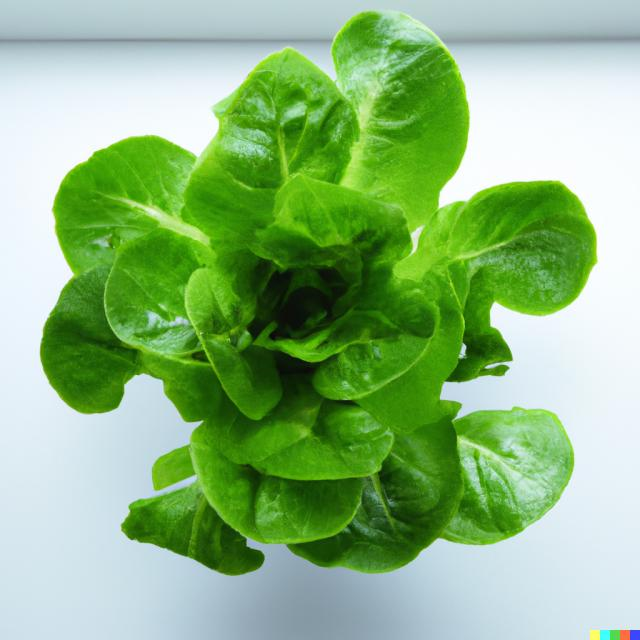FN: (30, 1, 606, 583)
